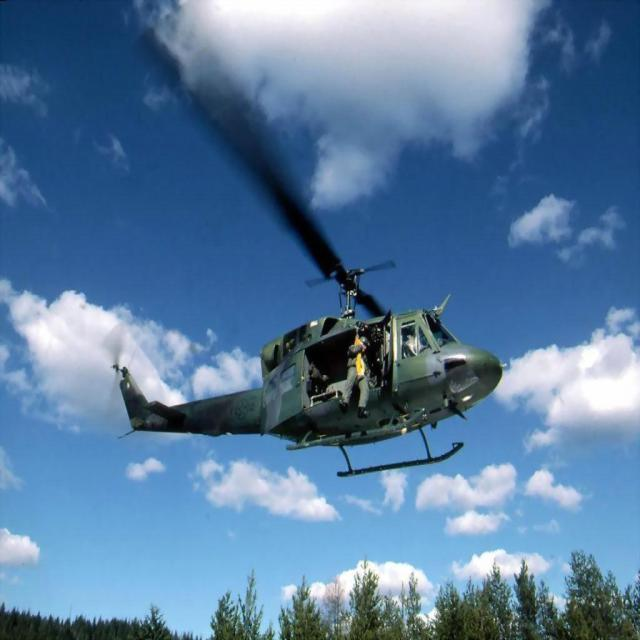MIL_HELO: (88, 6, 510, 496)
